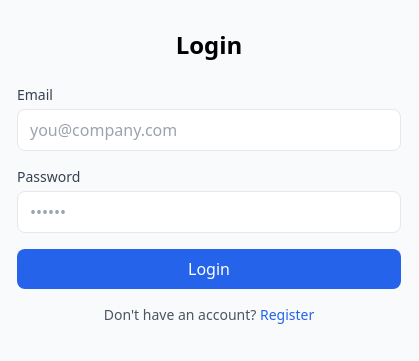
LoginPage › shows validation error for empty email
Click the button "Login": [209, 269] box [17, 249, 401, 289]
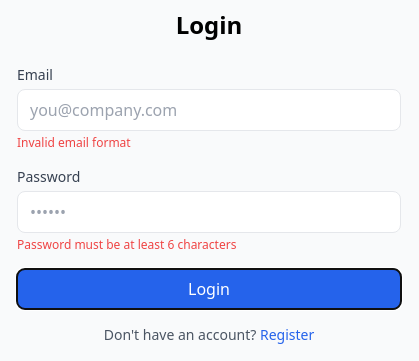
Result: the text "Invalid email format" is shown at [17, 134, 131, 151]
